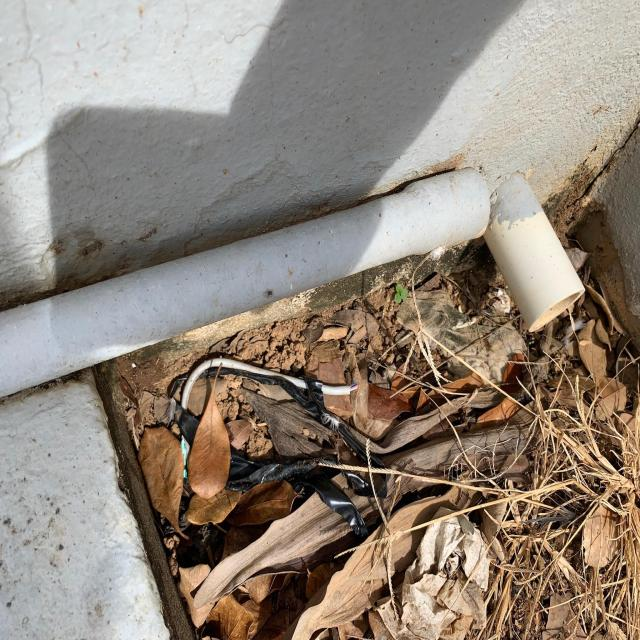litter: (182, 355, 356, 420)
